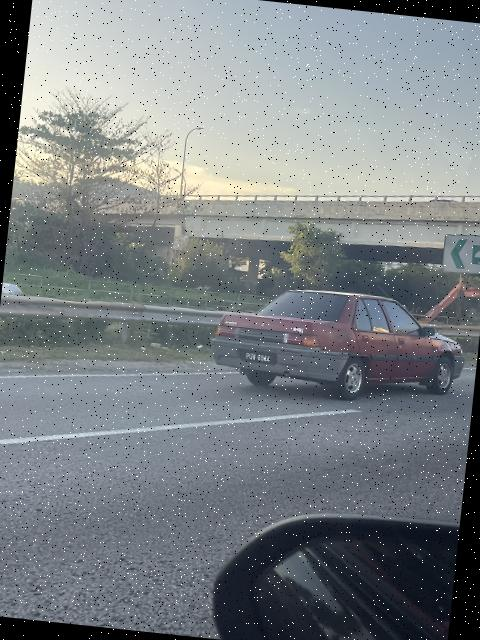License_Plate: (230, 347, 283, 372)
car: (205, 265, 470, 411)
